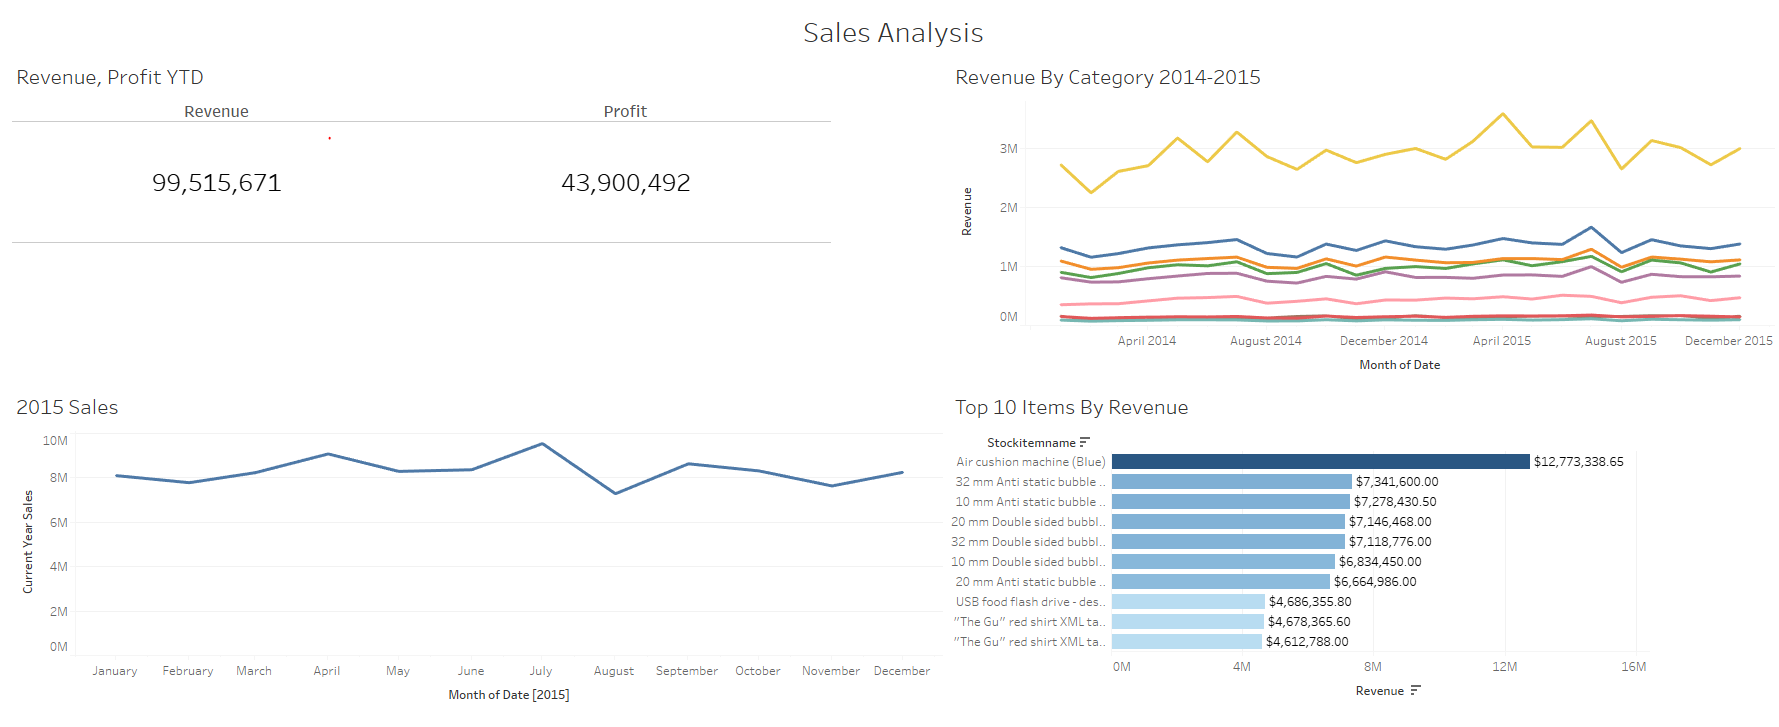

Layout of this report page (visuals, bound fields, positions):
{"tool":"tableau","page":{"name":"Dashboard 1","canvas":[1000,1000],"units":"permille","ordinal":0},"visuals":[{"type":"title","box":[4.7,8.8,912.8,50.9]},{"type":"legend","title":"Revenue Change 2","param":"[federated.0pt2coi0soqzzl1dee4vm1qrnj4e].[none:stockgroupname:nk]","box":[917.5,8.8,77.8,241.2]},{"type":"worksheet","title":"rev + profit ytd","mark":"Automatic","box":[4.7,59.7,484,311.3]},{"type":"worksheet","title":"Revenue Change 2","mark":"Automatic","rows":["extendedprice"],"cols":["LastEditedWhen"],"box":[488.7,59.7,428.8,311.3]},{"type":"worksheet","title":"2015 Sales","mark":"Automatic","rows":["Calculation_1124211124872196099"],"cols":["LastEditedWhen"],"box":[4.7,371.1,484.1,311.5]},{"type":"worksheet","title":"Top 10 Items","mark":"Automatic","rows":["stockitemname"],"cols":["extendedprice"],"box":[488.8,371.1,428.8,311.3]},{"type":"worksheet","title":"Top 10 Customers","mark":"Bar","rows":["customername"],"box":[488.8,682.4,428.8,308.8]},{"type":"worksheet","title":"2014 Sales","mark":"Automatic","rows":["Calculation_1124211124872691716"],"cols":["LastEditedWhen"],"box":[4.7,682.6,484.1,308.6]}]}

Visuals, with their boxes on the dashboard's canvas, which has no fixed pixel size, in thousandths of its width and height (x1, y1, x2, y2). These are canvas units, not pixel positions in the 1779x727 screenshot, which may show the page scaled, cropped or inside an application window:
title: [left=5, top=9, right=918, bottom=60]
"Revenue Change 2" legend: [left=918, top=9, right=995, bottom=250]
"rev + profit ytd" worksheet: [left=5, top=60, right=489, bottom=371]
"Revenue Change 2" worksheet: [left=489, top=60, right=918, bottom=371]
"2015 Sales" worksheet: [left=5, top=371, right=489, bottom=683]
"Top 10 Items" worksheet: [left=489, top=371, right=918, bottom=682]
"Top 10 Customers" worksheet (Bar marks): [left=489, top=682, right=918, bottom=991]
"2014 Sales" worksheet: [left=5, top=683, right=489, bottom=991]
